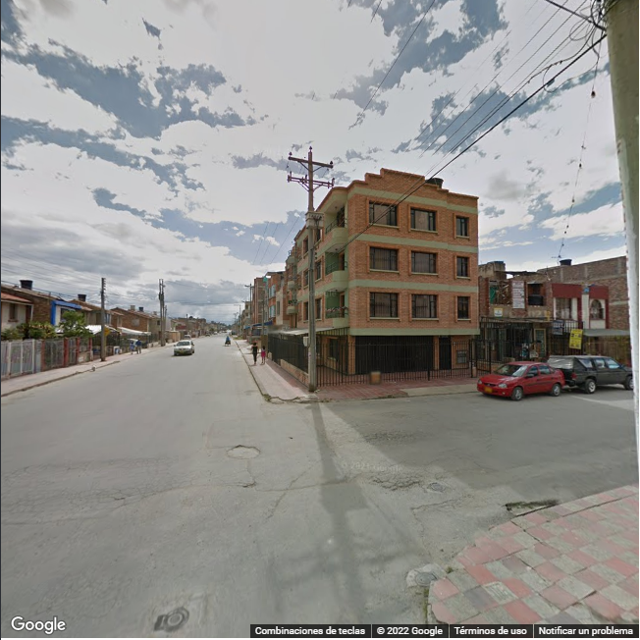D00: (105, 480, 198, 515), (262, 463, 310, 527), (403, 494, 472, 513), (248, 456, 261, 495)
D10: (408, 500, 428, 554)
D20: (368, 467, 418, 490)
